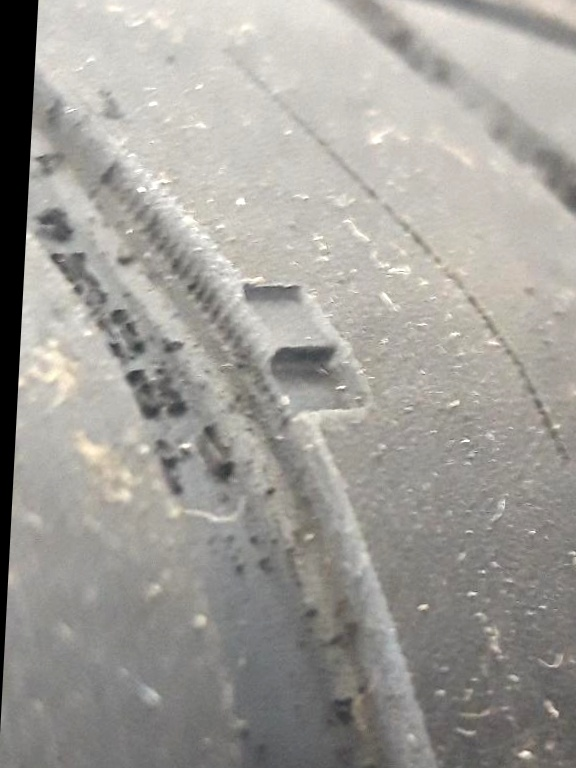temoin:25: (195, 261, 393, 460)
